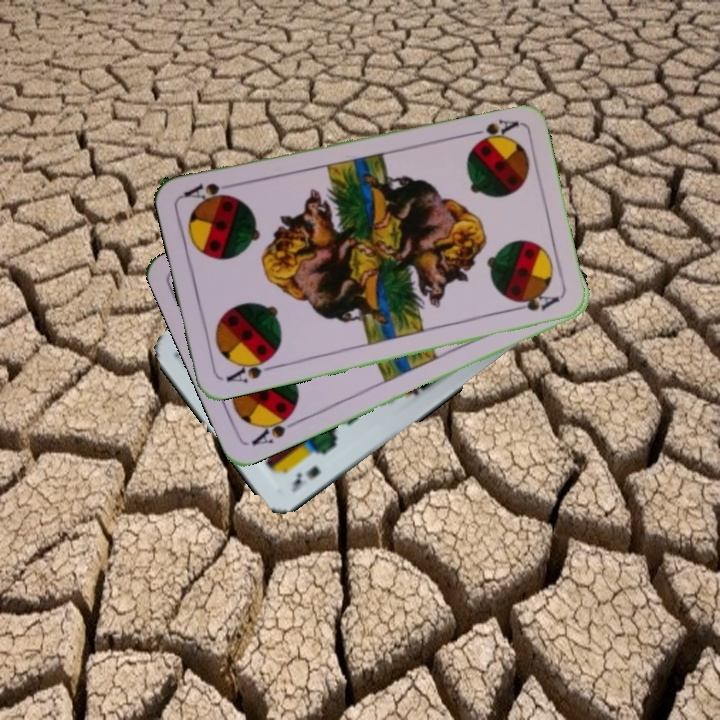EK: (286, 461, 323, 495)
SA: (247, 407, 302, 449), (222, 352, 278, 386), (462, 115, 521, 142)
